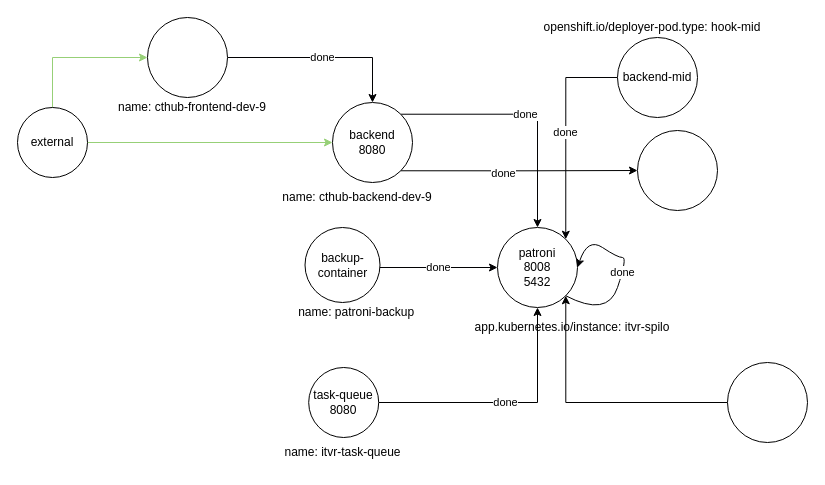
This 825x485 diagram has some shape labels left out. Each missing label, with the centre of its shape:
"Clamav 3310" belongs at pixel 677 170.
"frontend 3000 5002" belongs at pixel 187 57.
"metabasde" belongs at pixel 767 402.
